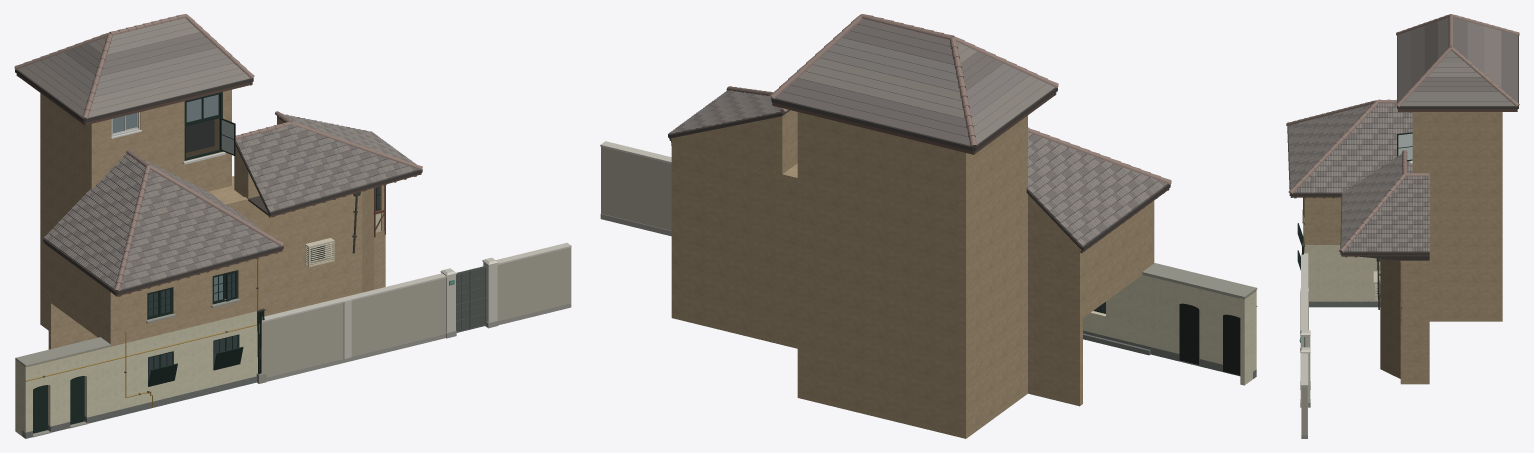
The model's file is xuhui-changle-337-courtyard-gate-and-street-house-web.glb.
The picture shows the model from 3 angles, left to right: view 1: azimuth 30°, elevation 25°; view 2: azimuth 150°, elevation 25°; view 3: azimuth 270°, elevation 25°; orthographic projection. The views are drawn at different scales.
Parts seen in each view (by area): view 1: 长乐坊337号院门与相邻临街窗墙; view 2: 长乐坊337号院门与相邻临街窗墙; view 3: 长乐坊337号院门与相邻临街窗墙.
Boxes of the visible parts, <box> form: 长乐坊337号院门与相邻临街窗墙: <box>14,14,571,438</box>; 长乐坊337号院门与相邻临街窗墙: <box>600,14,1257,438</box>; 长乐坊337号院门与相邻临街窗墙: <box>1286,14,1519,438</box>.
Size of the model in its own units: 22.43 by 11.98 by 9.56.
Materials: 30 (4 with a texture image).
